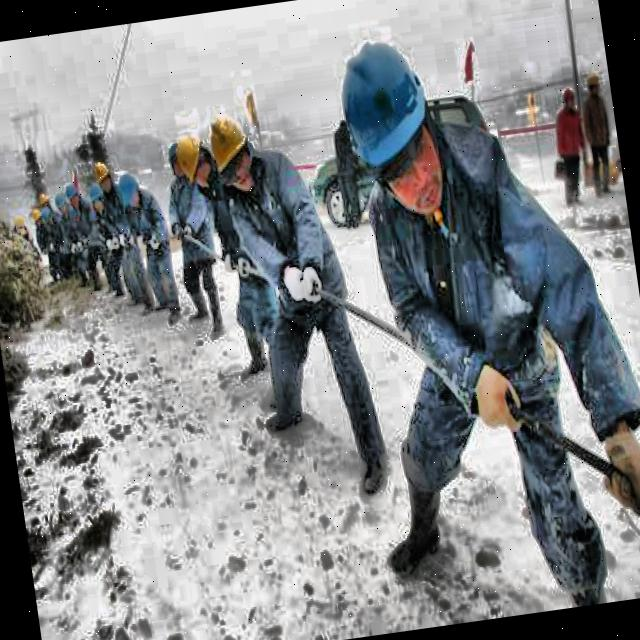helmet: (334, 32, 450, 228), (200, 102, 260, 194), (173, 132, 210, 190), (114, 171, 144, 213), (558, 81, 583, 117), (84, 182, 110, 216), (92, 157, 115, 190), (51, 190, 73, 222), (585, 68, 604, 100), (61, 179, 82, 207)
